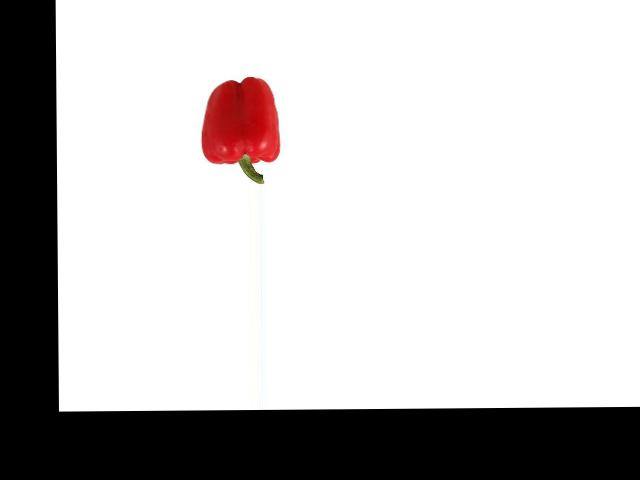bell_pepper: (189, 75, 284, 183)
